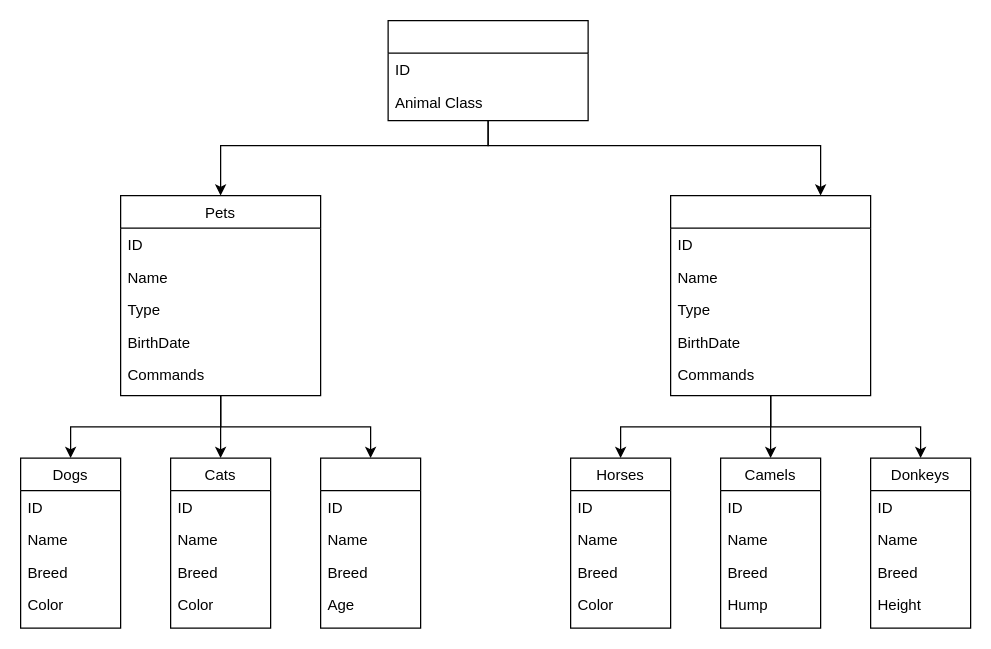
Some shapes in this 991 by 649 pixel diagram are drawn without their labels. The shapes that lost their labels are listed below. From the top down, each one's box as (x1, y1, x2, y2) in pixels, then its label:
(387, 19, 588, 121): Animals
(669, 194, 871, 396): Pack Animals
(319, 457, 421, 628): Hamsters
